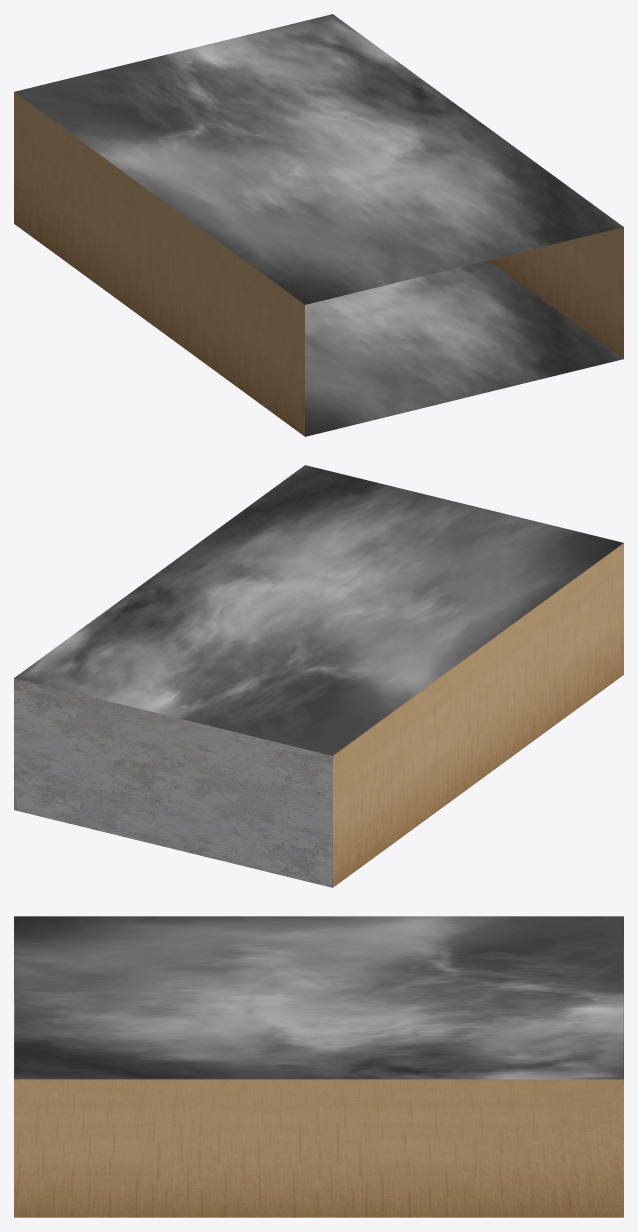
Rendered from Nroom.obj.
The picture shows the model from 3 angles, top to bottom: view 1: azimuth 30°, elevation 25°; view 2: azimuth 150°, elevation 25°; view 3: azimuth 270°, elevation 25°; orthographic projection. The views are drawn at different scales.
Parts seen in each view (by area): view 1: Ceiling, LeftWall, Floor, RightWall; view 2: Ceiling, BackWall, LeftWall; view 3: Ceiling, RightWall.
Part boxes in pixels (bbox=[...]): Ceiling: bbox=[14, 14, 623, 304]; LeftWall: bbox=[14, 92, 304, 436]; Floor: bbox=[305, 260, 623, 436]; RightWall: bbox=[489, 227, 623, 358]; Ceiling: bbox=[14, 465, 623, 755]; BackWall: bbox=[14, 678, 332, 887]; LeftWall: bbox=[333, 543, 623, 887]; Ceiling: bbox=[14, 916, 623, 1079]; RightWall: bbox=[14, 1079, 623, 1217].
Bounding box in the file's own units: 12.65 × 5 × 20.
5 materials, 4 textured.
